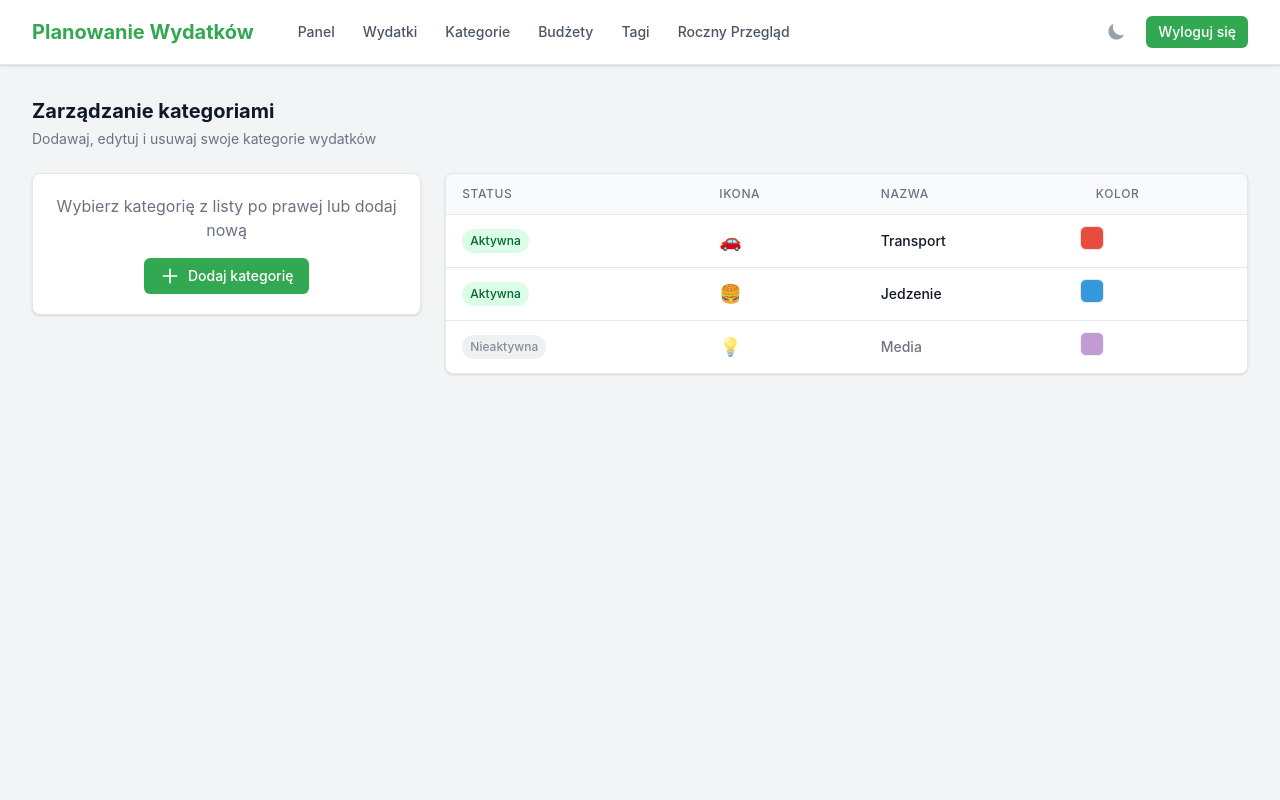
Test: add category › submits the form, refetches, and toasts in Polish
Check: the text "Transport" is shown, box [865, 214, 1080, 268]
Click the button "Dodaj kategorię".
click(227, 276)  # box [144, 258, 309, 294]
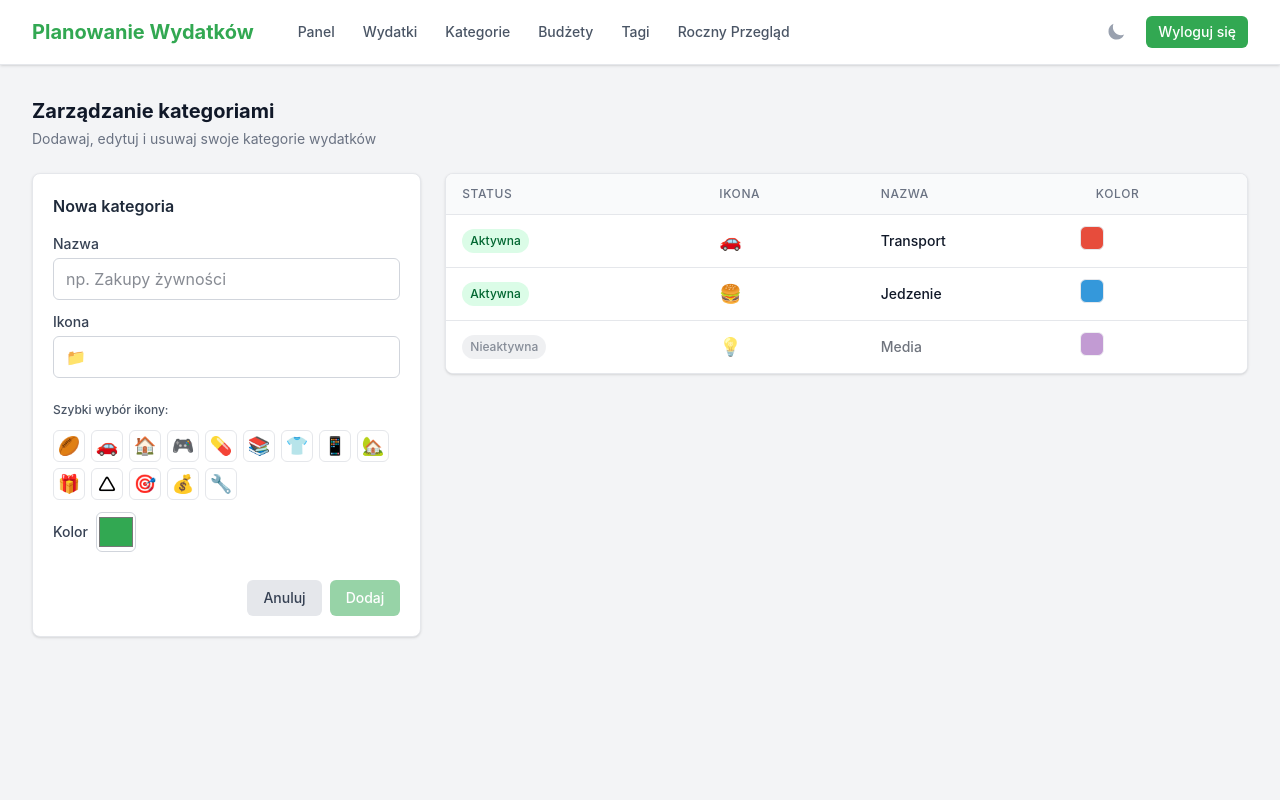
Type "Prezenty" into the field labelled "Nazwa".
click(227, 279); type("Prezenty")  # box [53, 258, 400, 300]
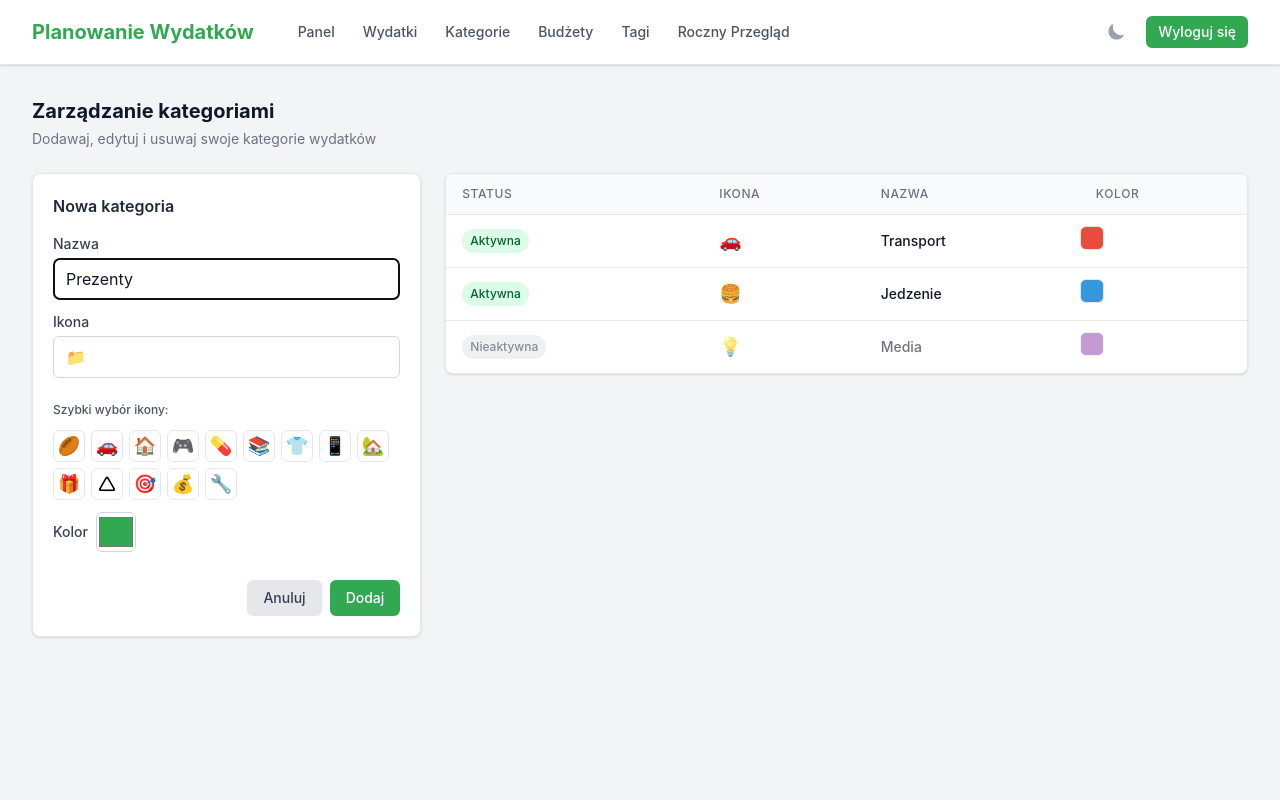
Click the button "Dodaj".
click(365, 598)  # box [330, 580, 400, 616]
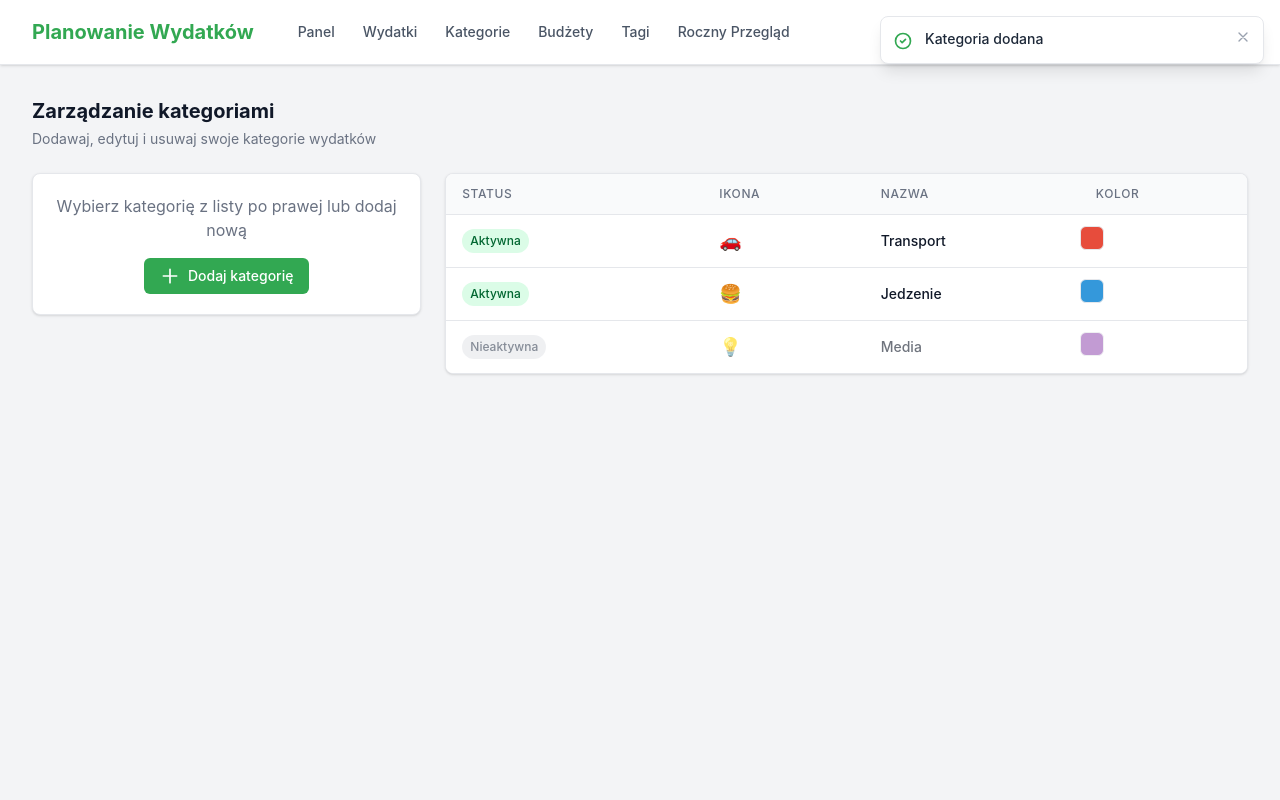
Check: the text "Kategoria dodana" is shown, box [925, 30, 1043, 47]
